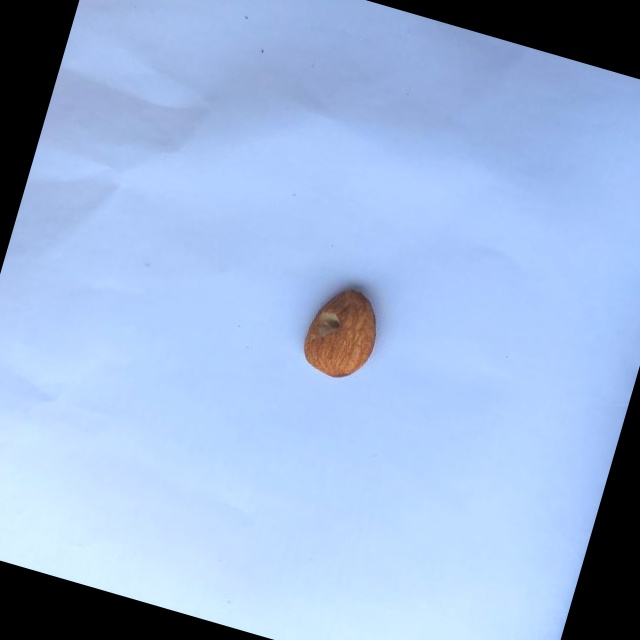grade3: (291, 275, 391, 390)
